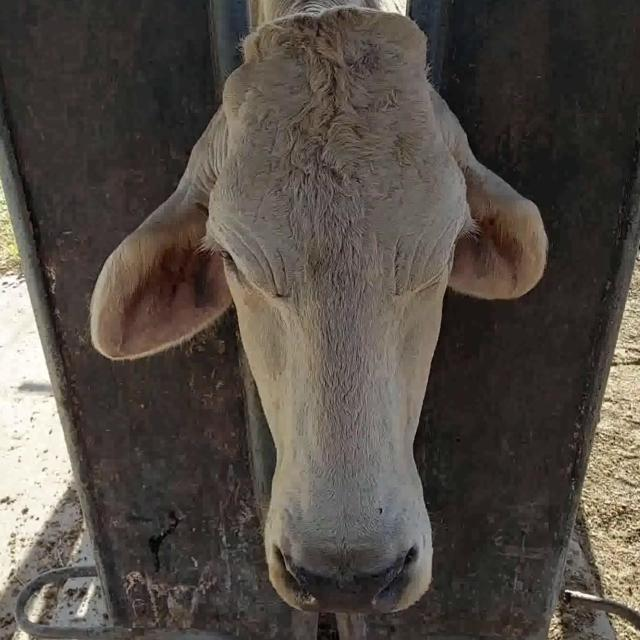cowFace: (206, 19, 471, 616)
